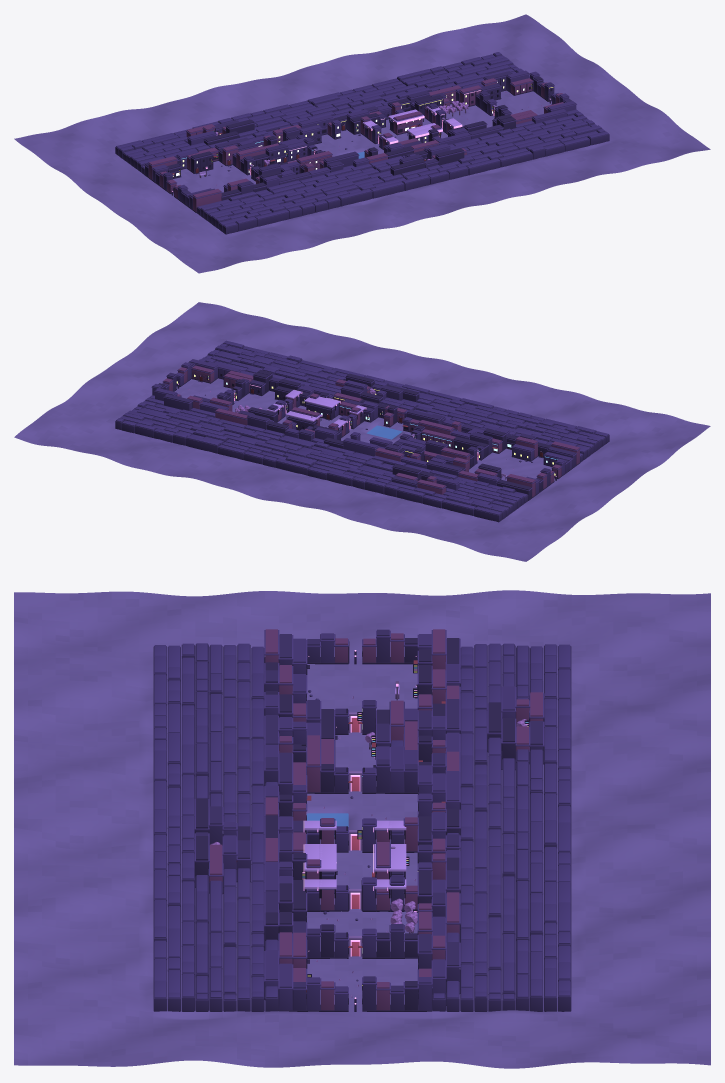
File: jazz.glb
3 views of the same model, one above another, from view 1: azimuth 30°, elevation 25°; view 2: azimuth 150°, elevation 25°; view 3: azimuth 270°, elevation 25° (orthographic). The views are drawn at different scales.
Visible parts, largest first — view 1: ground, walls, props; view 2: ground, walls, props; view 3: ground, walls, props, trees.
Part boxes in pixels (x1,y1,x2,y2): ground: (14, 14, 710, 273); walls: (115, 52, 609, 234); props: (171, 92, 550, 195); ground: (14, 302, 710, 561); walls: (115, 340, 609, 522); props: (177, 383, 556, 480); ground: (14, 590, 710, 1068); walls: (153, 629, 571, 1011); props: (303, 650, 415, 1011); trees: (210, 719, 527, 933).
Bounding box in the file's own units: 80 × 2.87 × 50.
